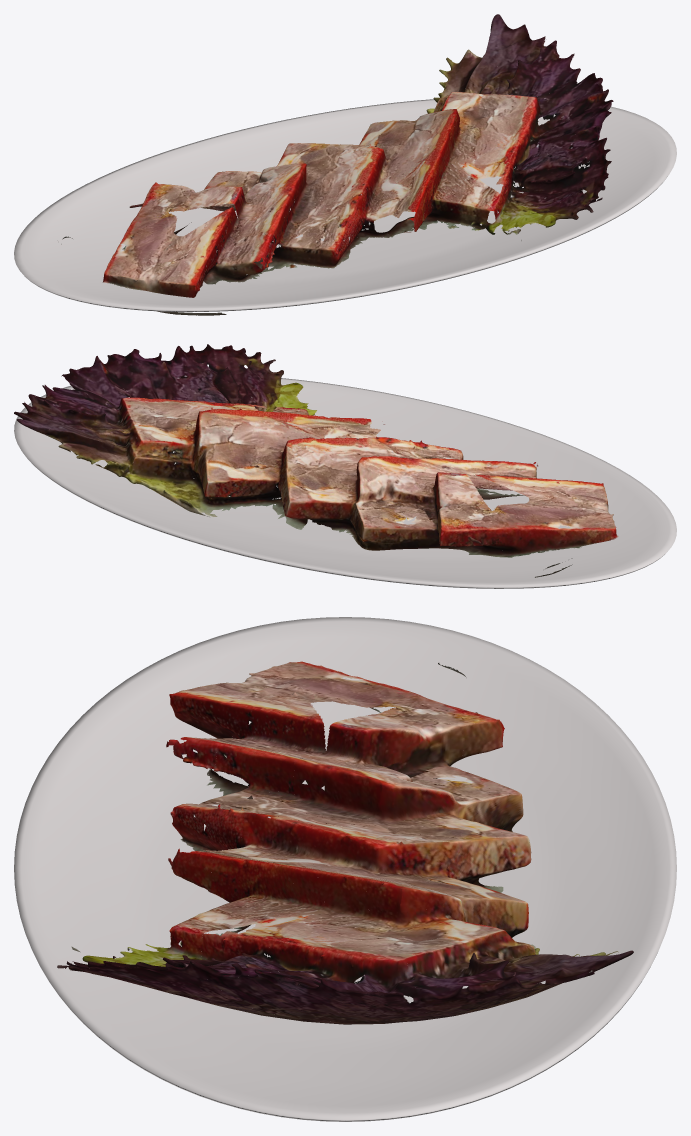
Rendered from yaxna_new.glb.
3 views of the same model, one above another, from view 1: azimuth 30°, elevation 25°; view 2: azimuth 150°, elevation 25°; view 3: azimuth 270°, elevation 25° (orthographic). The views are drawn at different scales.
Visible parts, largest first — view 1: food, plate; view 2: food, plate; view 3: plate, food.
Part boxes in pixels (bbox=[...]): food: bbox=[61, 14, 613, 315]; plate: bbox=[14, 99, 676, 311]; food: bbox=[14, 344, 618, 577]; plate: bbox=[14, 378, 676, 588]; plate: bbox=[14, 617, 676, 1121]; food: bbox=[57, 661, 633, 1024].
Size of the model in its own units: 1.18 by 0.1596 by 0.657.
Materials: 2 (1 with a texture image).
